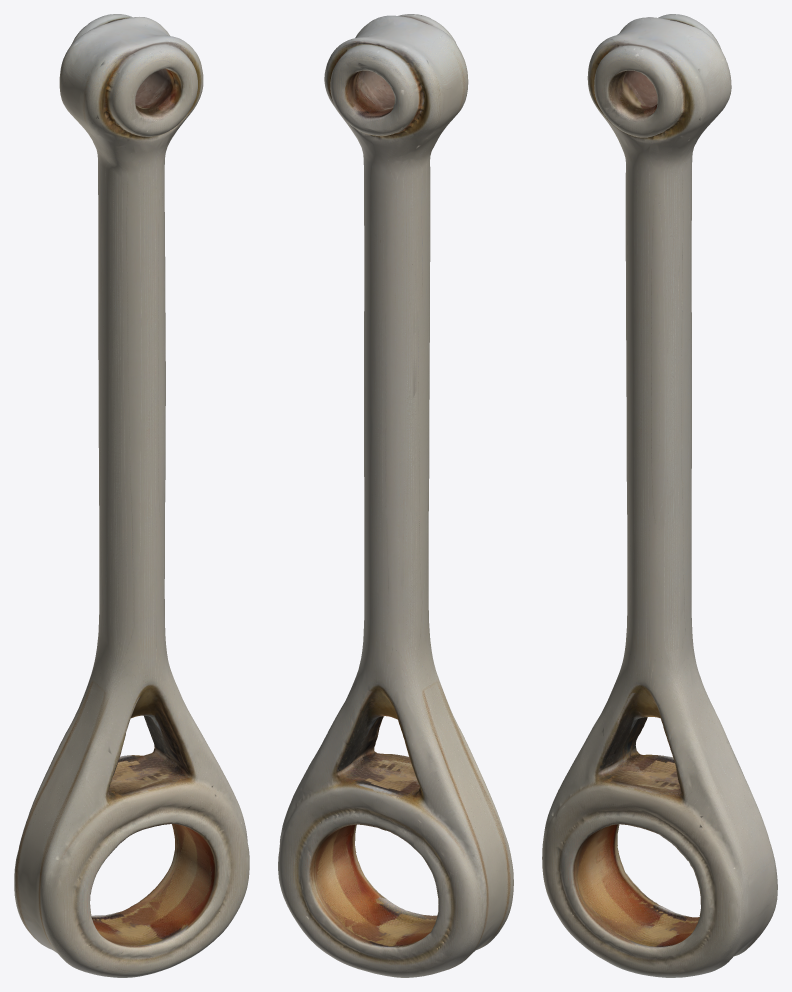
The model's file is connecting-rod.glb.
3 renders of one model, left to right at view 1: azimuth 30°, elevation 25°; view 2: azimuth 150°, elevation 25°; view 3: azimuth 330°, elevation 25°, orthographic.
Bounding box in the file's own units: 0.465 × 2 × 0.2211.
1 material, 1 textured.
